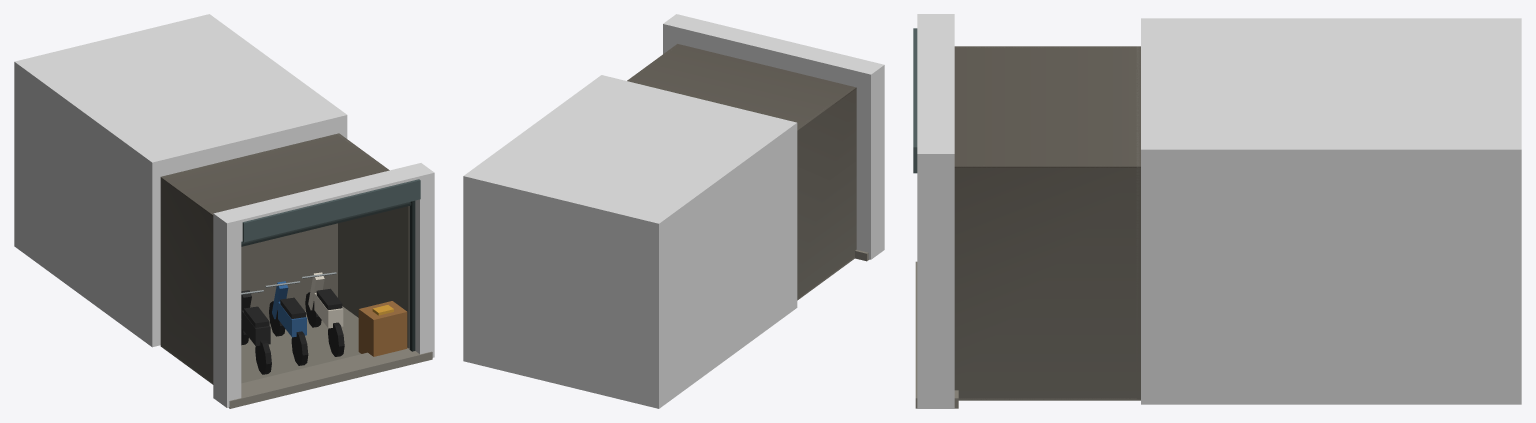
File: tret_gui_xe_40.glb
The picture shows the model from 3 angles, left to right: view 1: azimuth 30°, elevation 25°; view 2: azimuth 150°, elevation 25°; view 3: azimuth 270°, elevation 25°; orthographic projection. The views are drawn at different scales.
Parts seen in each view (by area): view 1: tret_gui_xe_40; view 2: tret_gui_xe_40; view 3: tret_gui_xe_40.
Part boxes in pixels (x1,y1,x2,y2): tret_gui_xe_40: [14, 14, 434, 408]; tret_gui_xe_40: [463, 14, 884, 408]; tret_gui_xe_40: [913, 14, 1521, 408].
Size of the model in its own units: 4 by 3.42 by 7.35.
